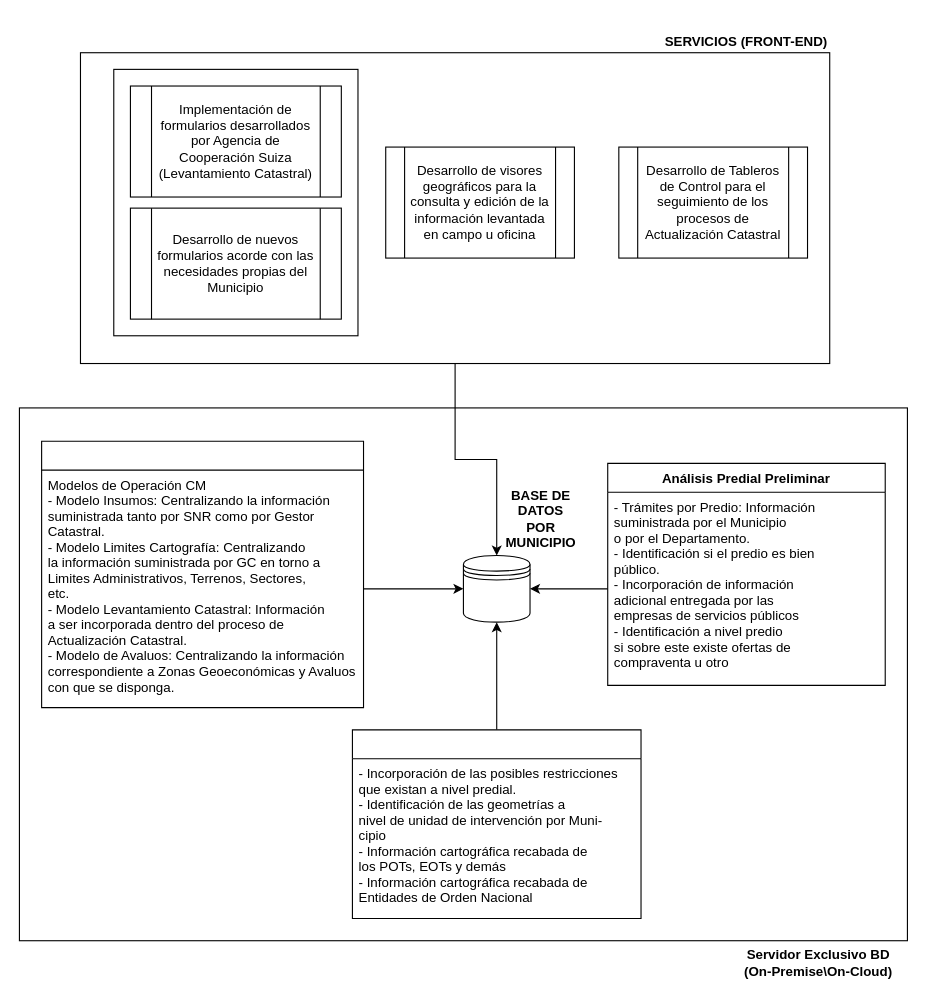
Some shapes in this 927 by 1003 pixel diagram are drawn without their labels. The box of each missing label's shape, as (x1, y1, x2, y2) in pixels:
Estructura LADM_COL 3.0: (41, 440, 364, 708)
Información Cartográfica Secundaria: (351, 729, 641, 919)
